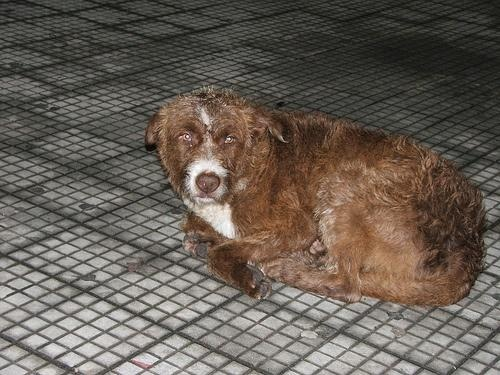dog: (136, 86, 486, 303)
